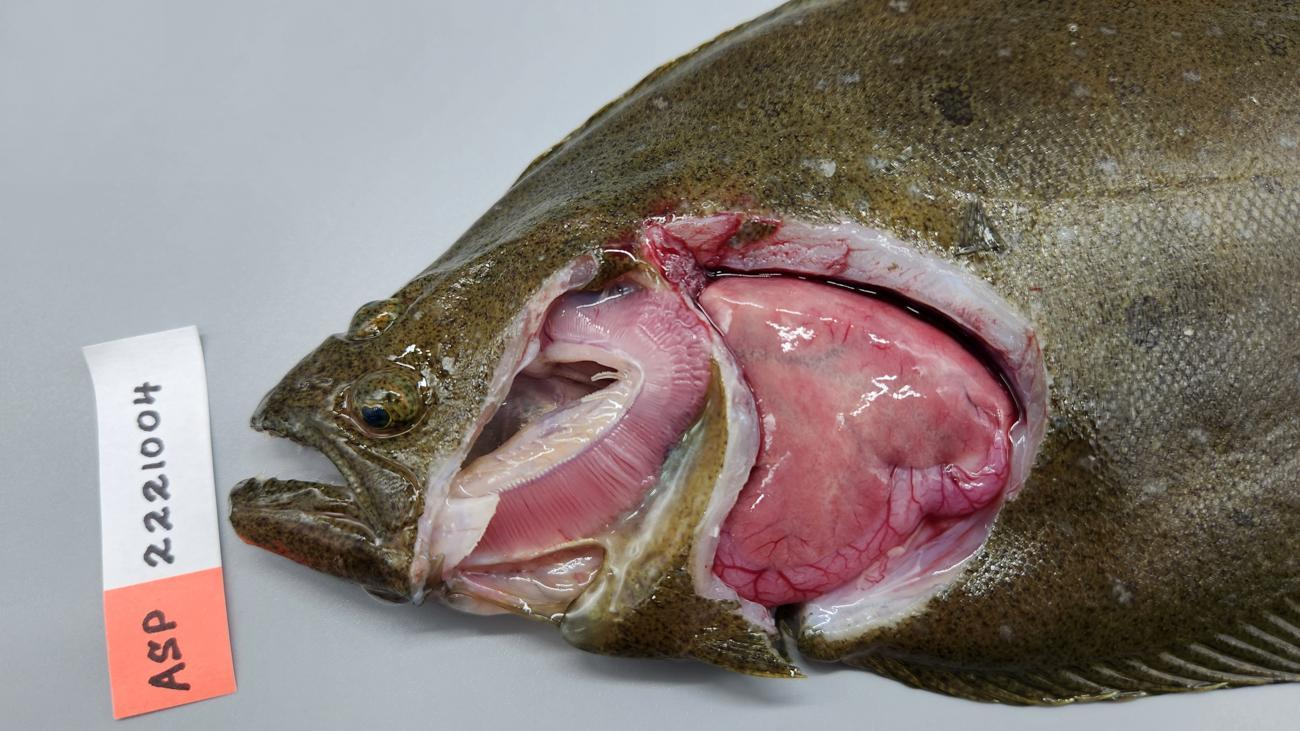SPLIC: (700, 275, 1012, 569)
